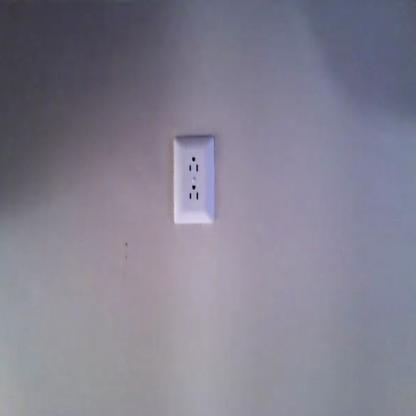OUTLET: (172, 136, 214, 226)
